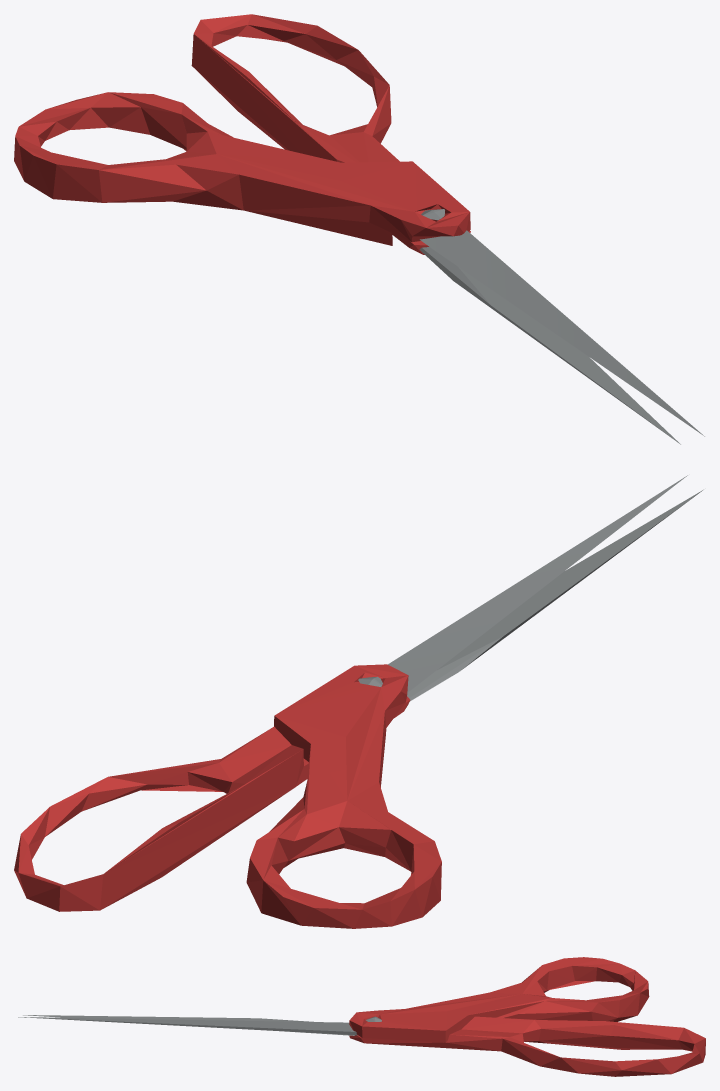
The model's file is item_scissors.glb.
3 views of the same model, one above another, from view 1: azimuth 30°, elevation 25°; view 2: azimuth 150°, elevation 25°; view 3: azimuth 270°, elevation 25° (orthographic). The views are drawn at different scales.
Visible parts, largest first — view 1: Office_Scissors; view 2: Office_Scissors; view 3: Office_Scissors.
Part boxes in pixels (box(x1,y1,x2,y2)): Office_Scissors: box(14, 14, 704, 444); Office_Scissors: box(14, 475, 703, 928); Office_Scissors: box(18, 957, 705, 1076).
Bounding box in the file's own units: 0.1576 × 0.0208 × 0.4298.
Materials: 1 (1 with a texture image).
